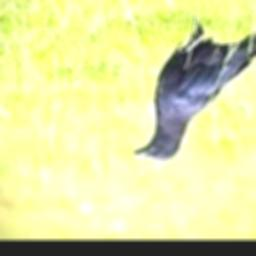Crow: (133, 12, 256, 161)
